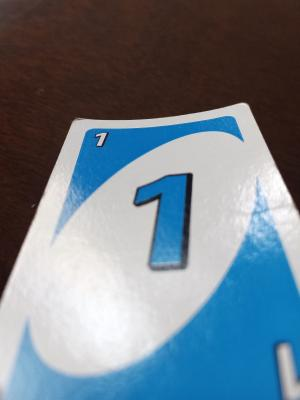blue: (83, 126, 271, 389)
num_1: (89, 124, 110, 153)
